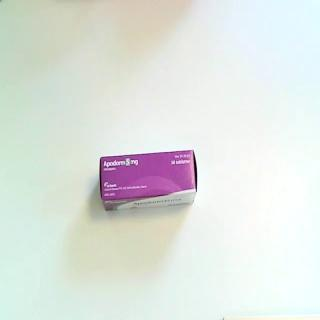apodonorm5mg: (98, 148, 199, 213)
